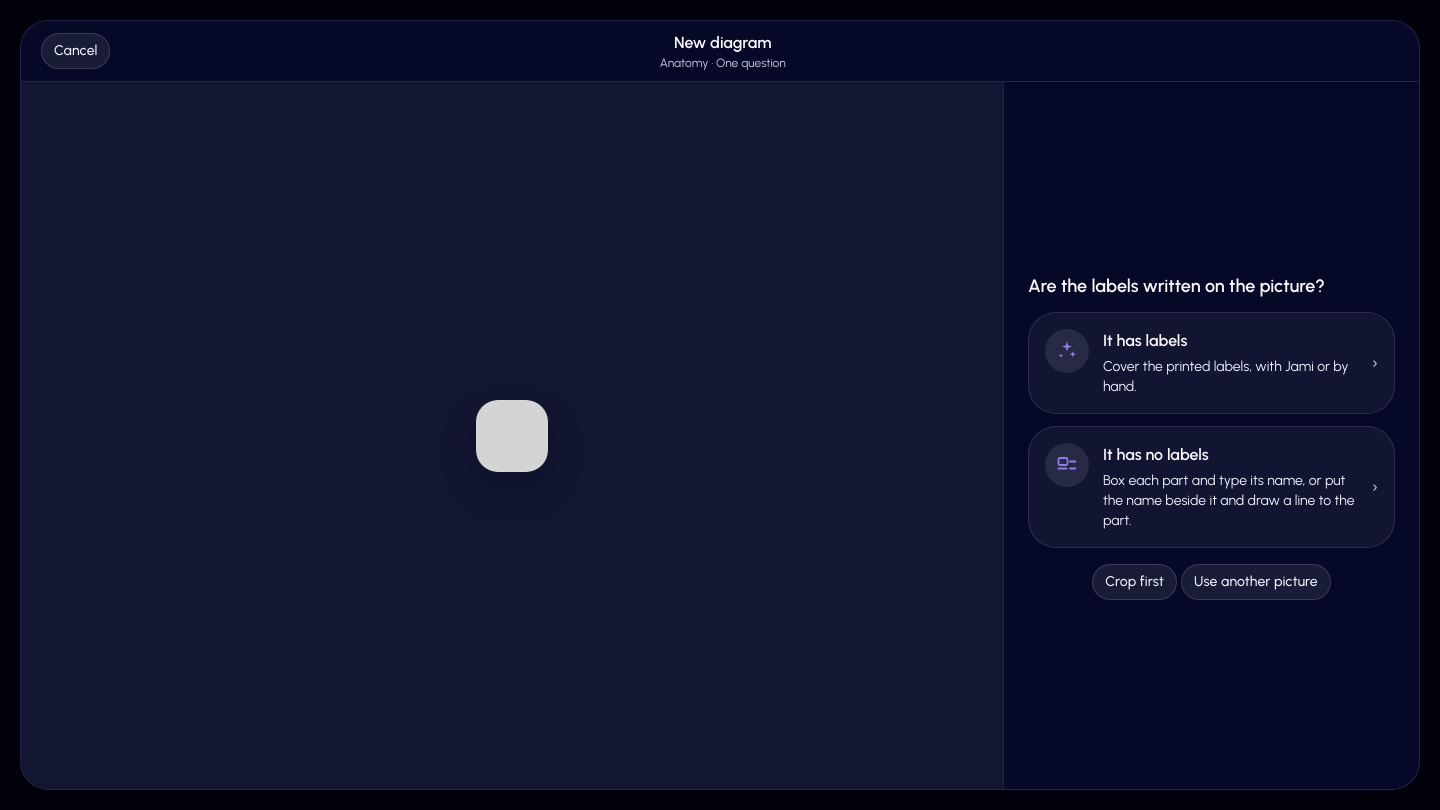
it: starting a diagram › goes back to the first question from the second
The image size is (1440, 810).
Click the button that starts with "It has labels".
click(1212, 362)  # box [1028,312,1395,414]
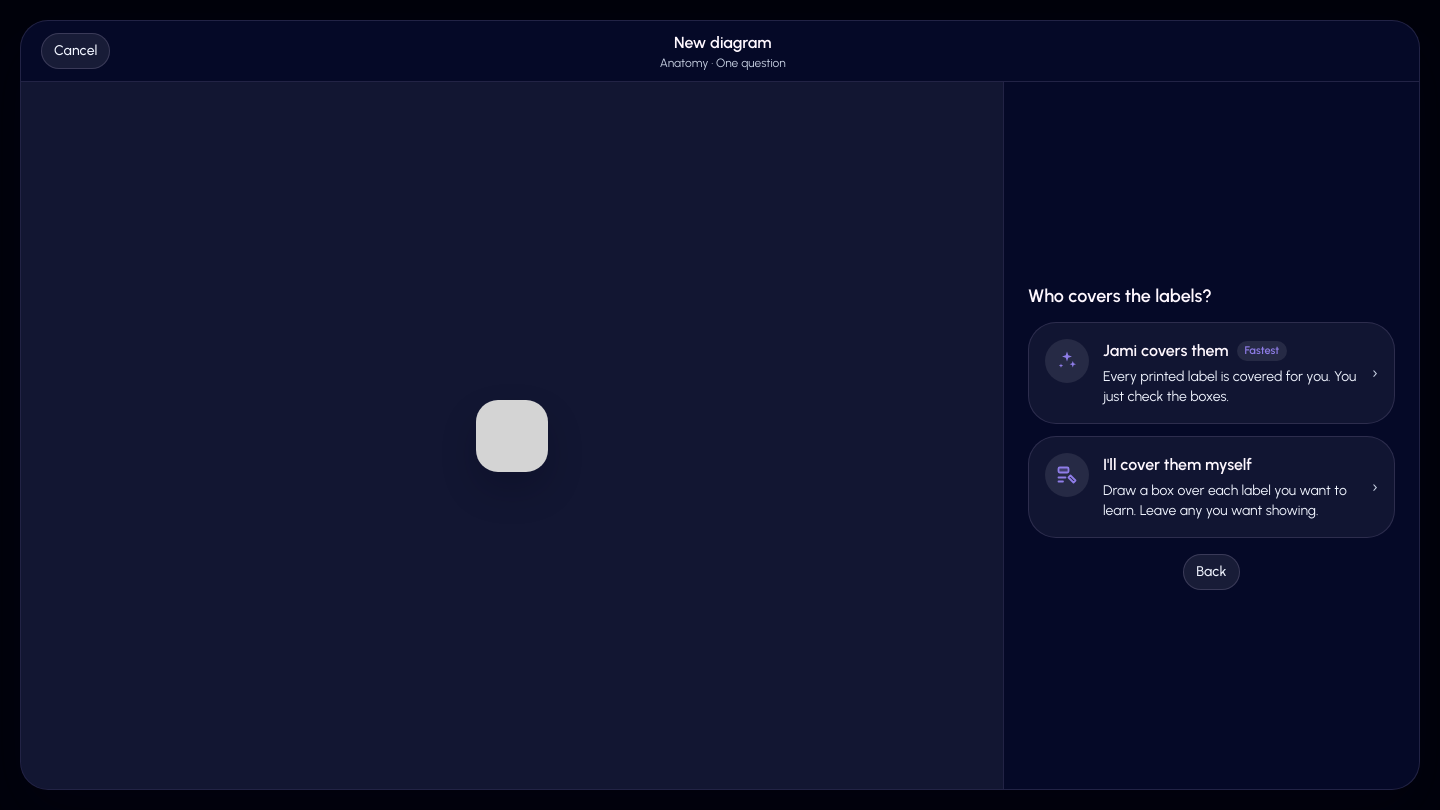
Click the button "Back".
click(1211, 572)  # box [1183,554,1240,590]
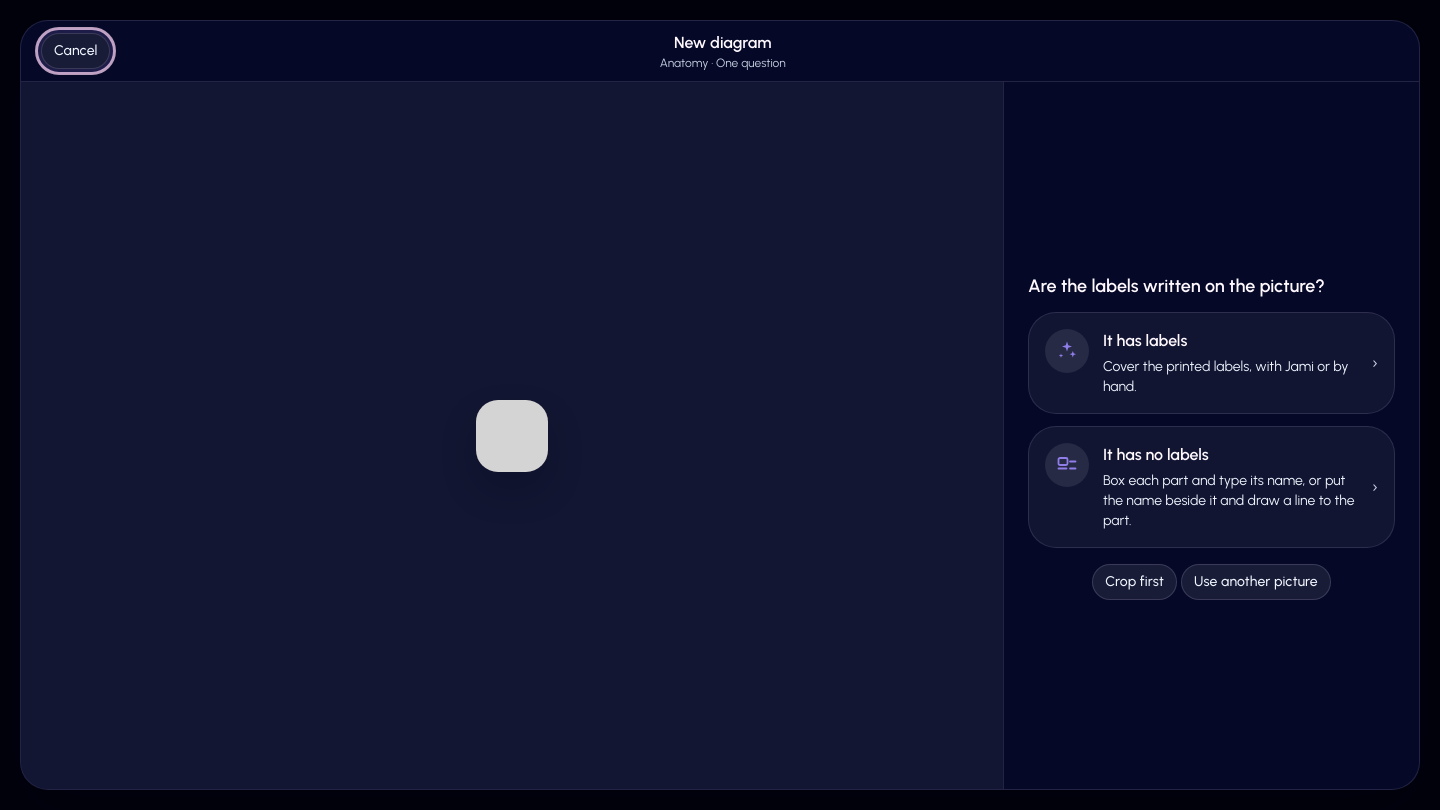
Check: the text "Are the labels written on the picture?" is shown, box [1028,274,1325,296]
